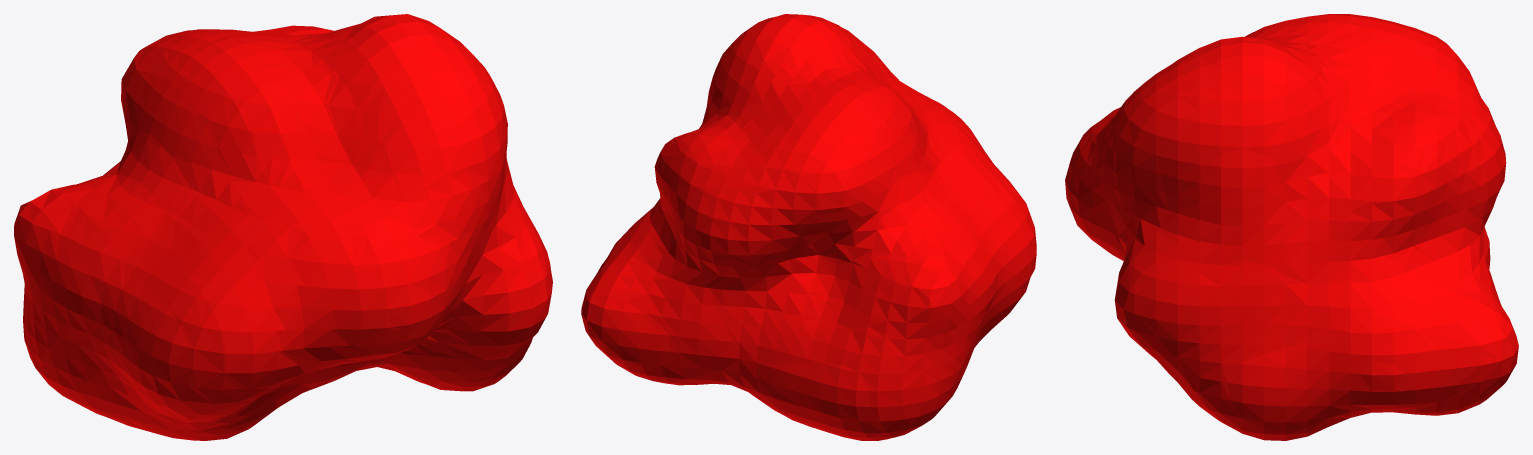
File: yifE_coarse.dae
The picture shows the model from 3 angles, left to right: view 1: azimuth 30°, elevation 25°; view 2: azimuth 150°, elevation 25°; view 3: azimuth 270°, elevation 25°; orthographic projection. The views are drawn at different scales.
Parts seen in each view (by area): view 1: yifE; view 2: yifE; view 3: yifE.
Part boxes in pixels (x1=…): yifE: x1=14, y1=14, x2=552, y2=440; yifE: x1=581, y1=14, x2=1036, y2=440; yifE: x1=1065, y1=14, x2=1518, y2=440.
Size of the model in its own units: 37.74 by 33.4 by 36.71.
